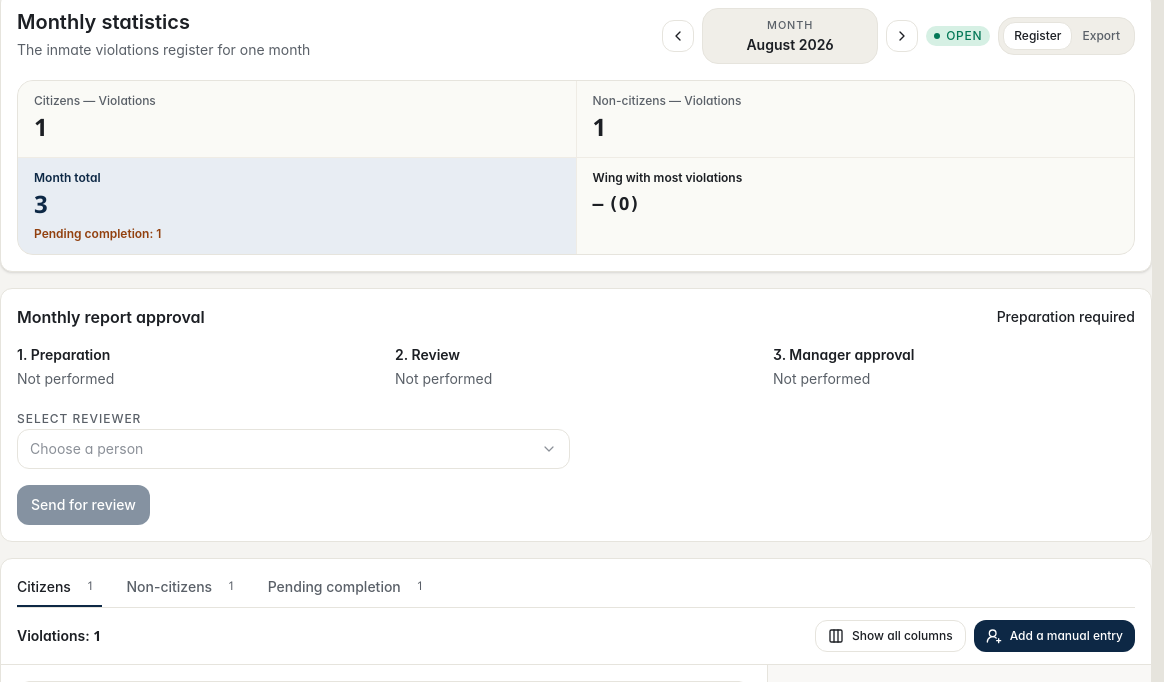
Test case: StatisticsTab › shows the pending population only when it contains entries and opens its completion form
Check: the tab "Citizens 1" is shown, box top-left (17, 567), bottom-right (102, 607)
Check: the tab "Non-citizens 1" is shown, box top-left (126, 567), bottom-right (244, 607)
What coordinates should you click on to do the following:
click the tab "Pending completion 1"
I would click on:
 (350, 587)
Its box is top-left (268, 567), bottom-right (432, 607).
(page scrolled)
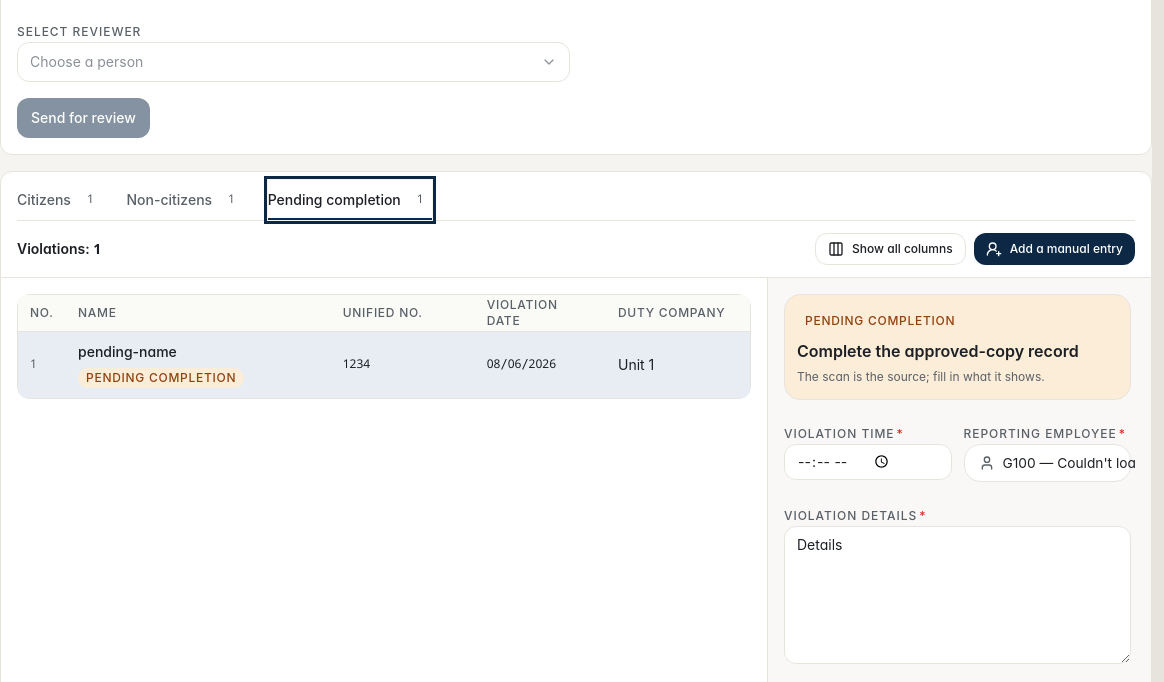
Check: the heading "Complete the approved-copy record" is shown, box top-left (797, 339), bottom-right (1118, 363)
